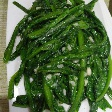youmaicai: (8, 1, 112, 112)
